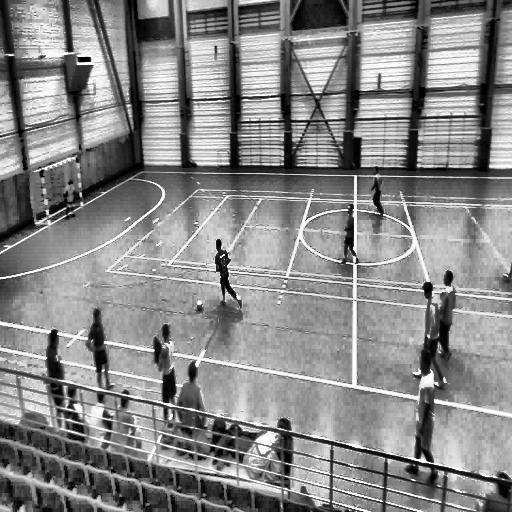ball: (195, 299, 203, 312)
player: (404, 347, 441, 478), (413, 279, 447, 393), (153, 323, 177, 424), (86, 309, 114, 393), (214, 239, 242, 310), (45, 330, 65, 426), (438, 271, 456, 364), (340, 202, 358, 264), (370, 165, 384, 217), (64, 180, 77, 220)
